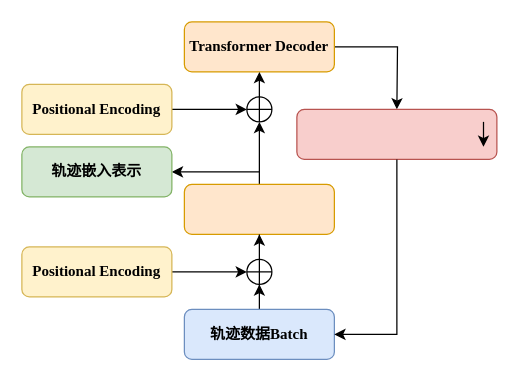
Some shapes in this 519 by 381 pixel diagram are drawn without their labels. The centre of each missing label's shape, as x and y in pixels:
Transformer Encoder: (x=258, y=208)
离散特征：交叉熵 Loss 连续特征： MSELoss: (x=396, y=133)
